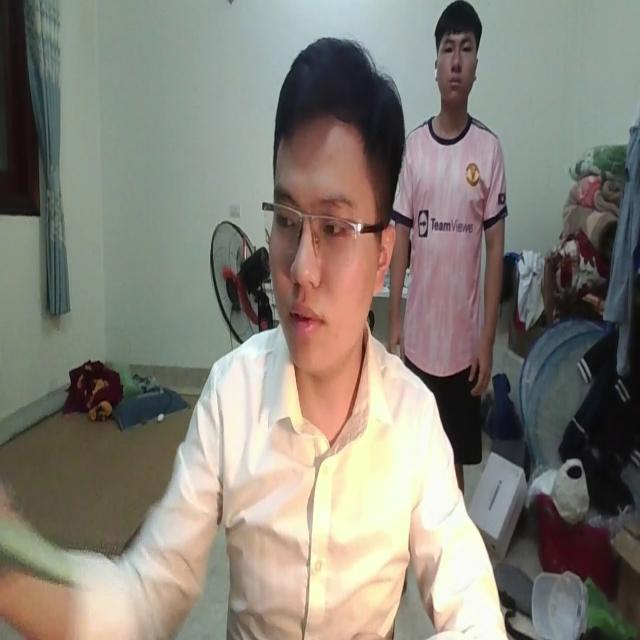extra_person: (394, 9, 511, 403)
student: (0, 37, 512, 640)
